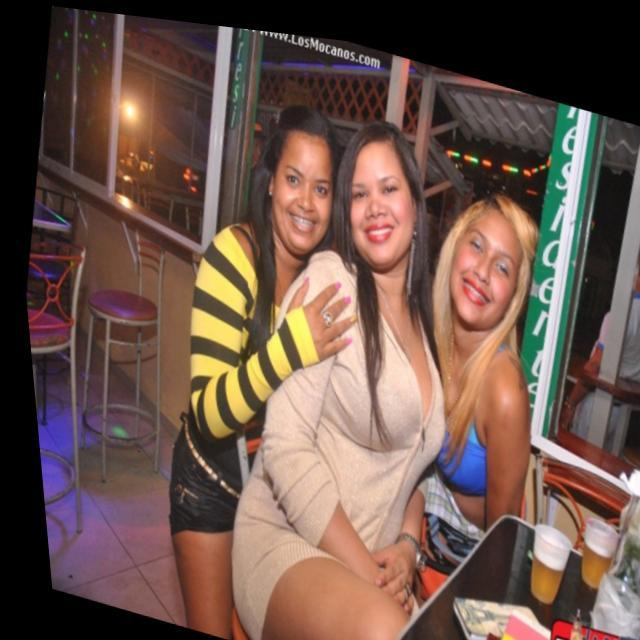Nonhelmet: (438, 176, 542, 338), (329, 107, 429, 273), (253, 93, 344, 255)
